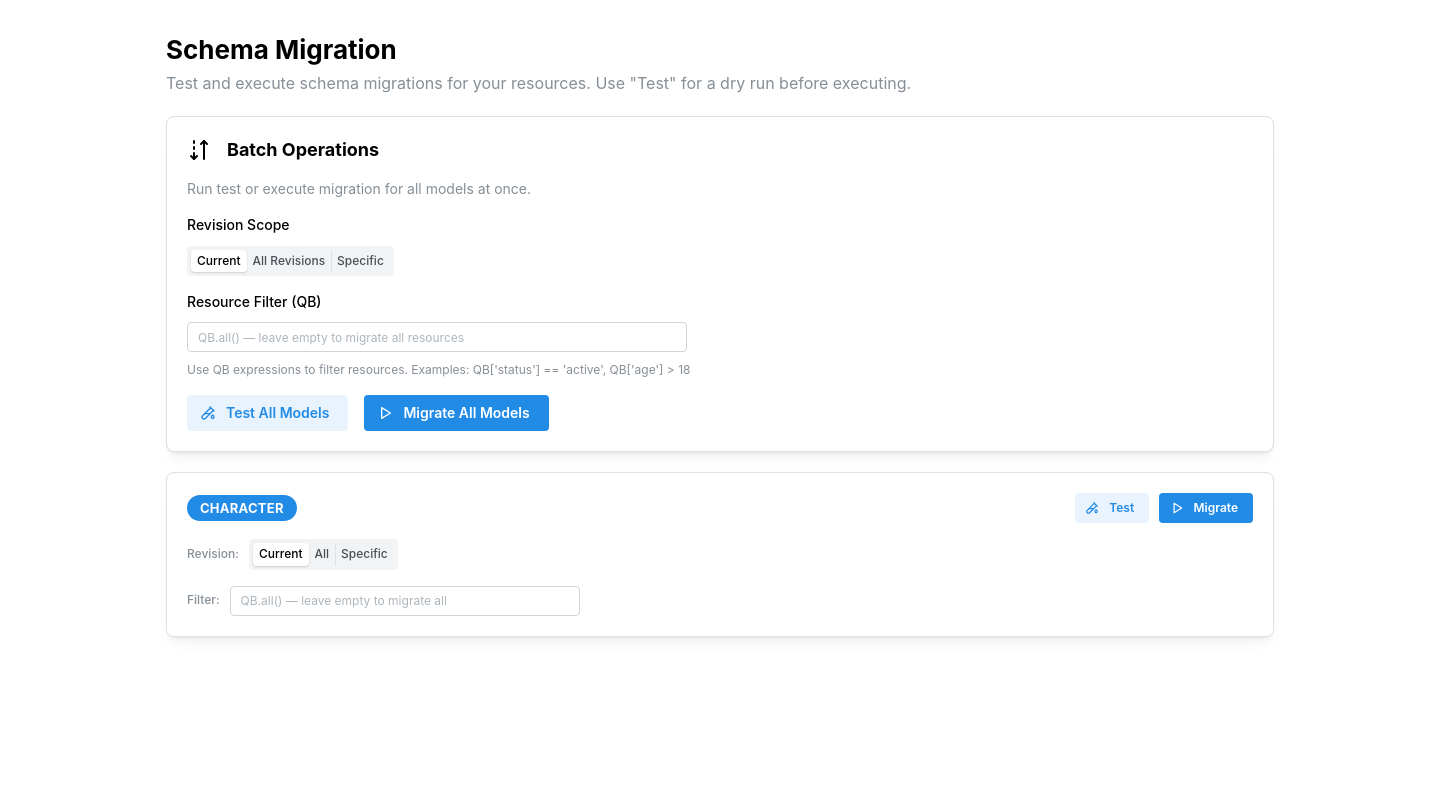
MigrationStatus › download buttons › renders download button for error details
The image size is (1440, 800).
Click the button "Test": (1112, 508) [1075,493,1149,523]
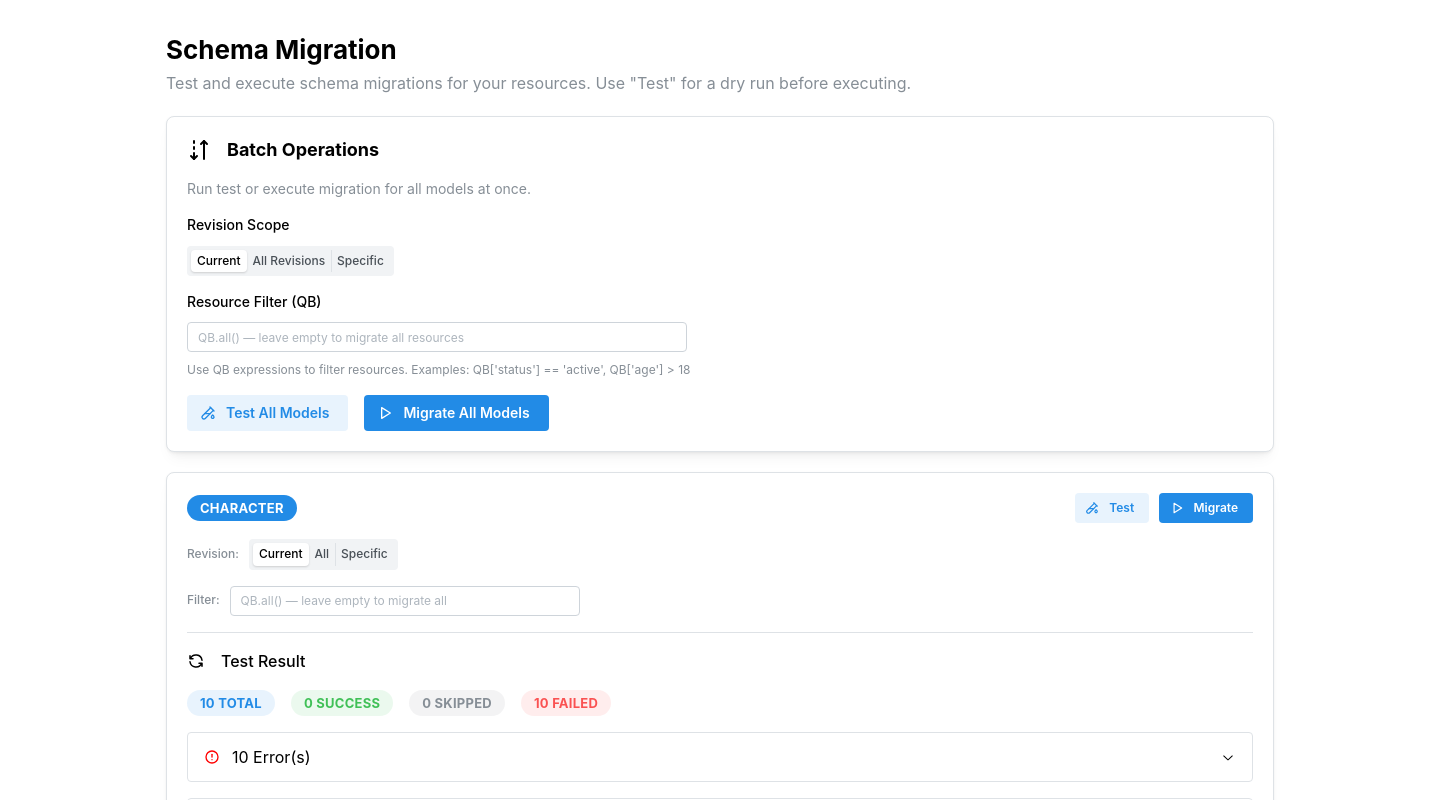
Result: the text "10 Error(s)" is shown at [232,747,310,767]
// Expand errors
Click the button "10 Error(s)": (280, 757) [188,733,1252,782]
(page scrolled)
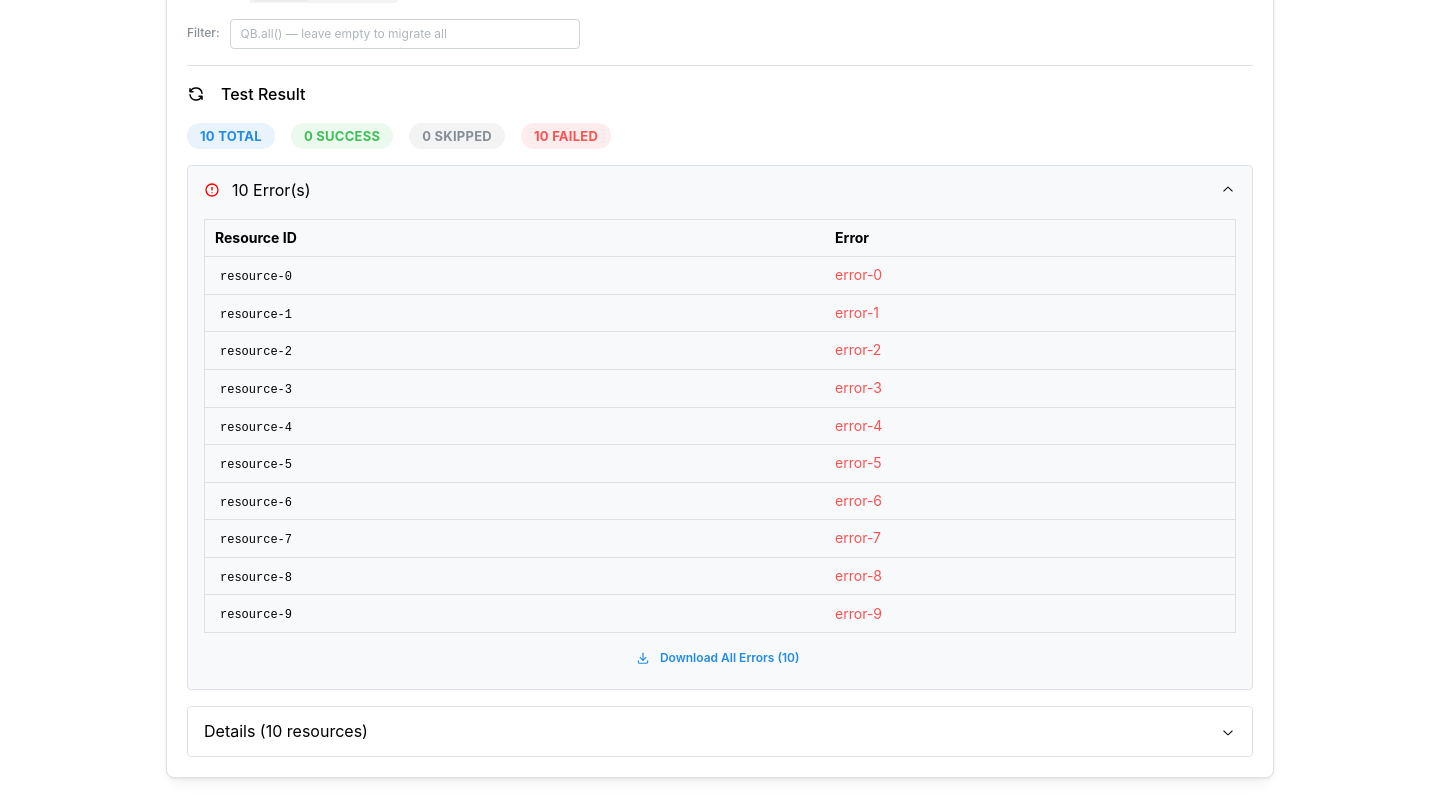
Result: the button "Download All Errors (10)" is shown at [204,643,1236,673]
